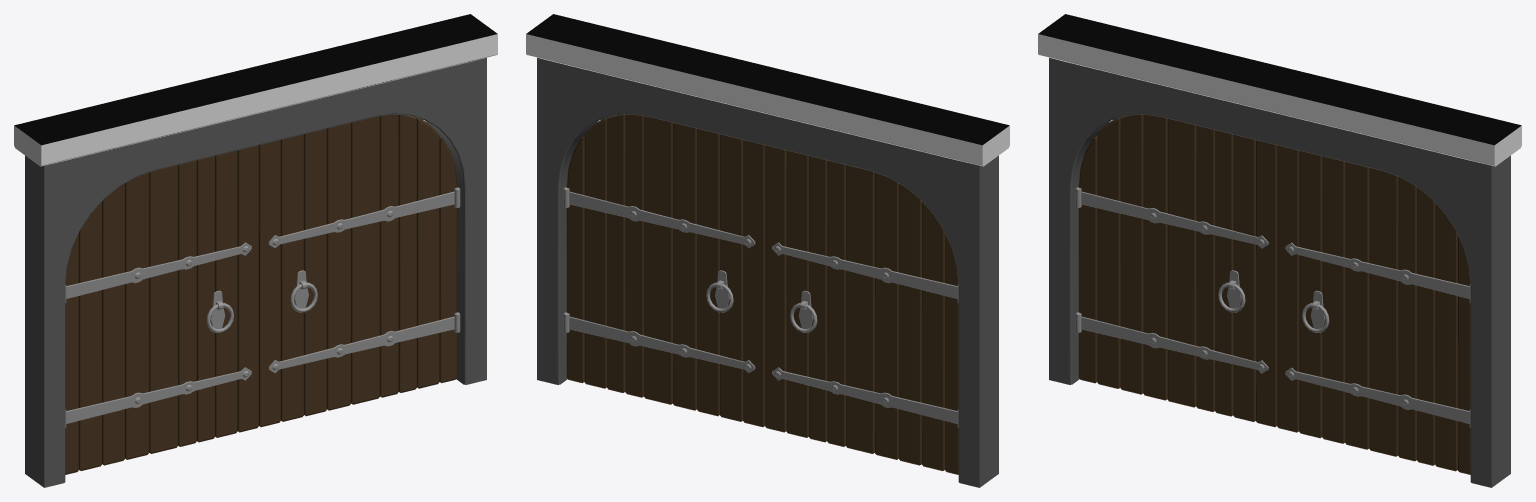
File: BigDoor.glb
3 views of the same model, side by side, from view 1: azimuth 30°, elevation 25°; view 2: azimuth 150°, elevation 25°; view 3: azimuth 330°, elevation 25° (orthographic).
Visible parts, largest first — view 1: BigDoorArc_col, DoorArc, DoorArc.001, Cube.002, Cube.003, Cube.010, Cube.009; view 2: BigDoorArc_col, DoorArc, DoorArc.001, Cube.002, Cube.003, Cube.010, Cube.009; view 3: BigDoorArc_col, DoorArc.001, DoorArc, Cube.010, Cube.009, Cube.003, Cube.002.
Part boxes in pixels (left/top/right/bottom): BigDoorArc_col: left=14, top=14, right=497, bottom=487; DoorArc: left=259, top=114, right=457, bottom=427; DoorArc.001: left=65, top=145, right=258, bottom=474; Cube.002: left=268, top=187, right=460, bottom=248; Cube.003: left=268, top=312, right=460, bottom=373; Cube.010: left=65, top=367, right=251, bottom=427; Cube.009: left=65, top=242, right=251, bottom=302; BigDoorArc_col: left=526, top=14, right=1009, bottom=487; DoorArc: left=566, top=114, right=764, bottom=427; DoorArc.001: left=764, top=145, right=958, bottom=474; Cube.002: left=563, top=187, right=755, bottom=248; Cube.003: left=563, top=312, right=755, bottom=373; Cube.010: left=772, top=367, right=958, bottom=427; Cube.009: left=772, top=242, right=958, bottom=302; BigDoorArc_col: left=1038, top=14, right=1521, bottom=487; DoorArc.001: left=1078, top=114, right=1276, bottom=427; DoorArc: left=1277, top=145, right=1470, bottom=474; Cube.010: left=1075, top=312, right=1268, bottom=373; Cube.009: left=1075, top=187, right=1268, bottom=248; Cube.003: left=1285, top=367, right=1470, bottom=427; Cube.002: left=1285, top=242, right=1470, bottom=302.
Size of what is drawn, in the model's own units: 4.13 by 3 by 0.4271.
